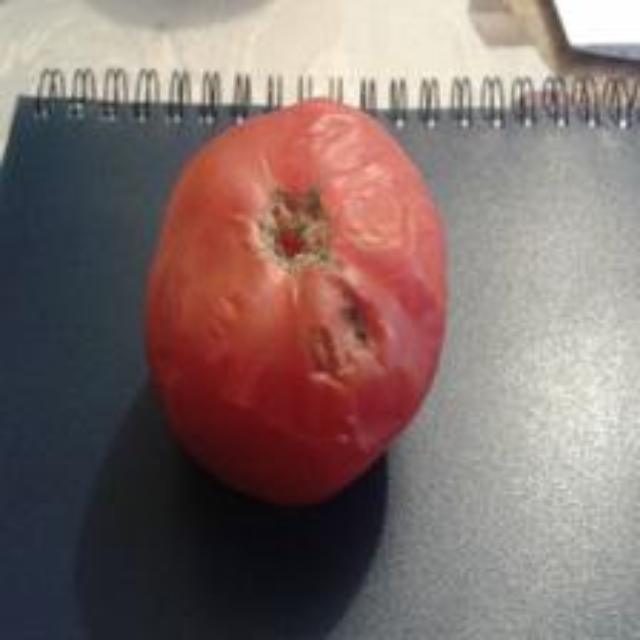defect: (139, 97, 454, 511)
